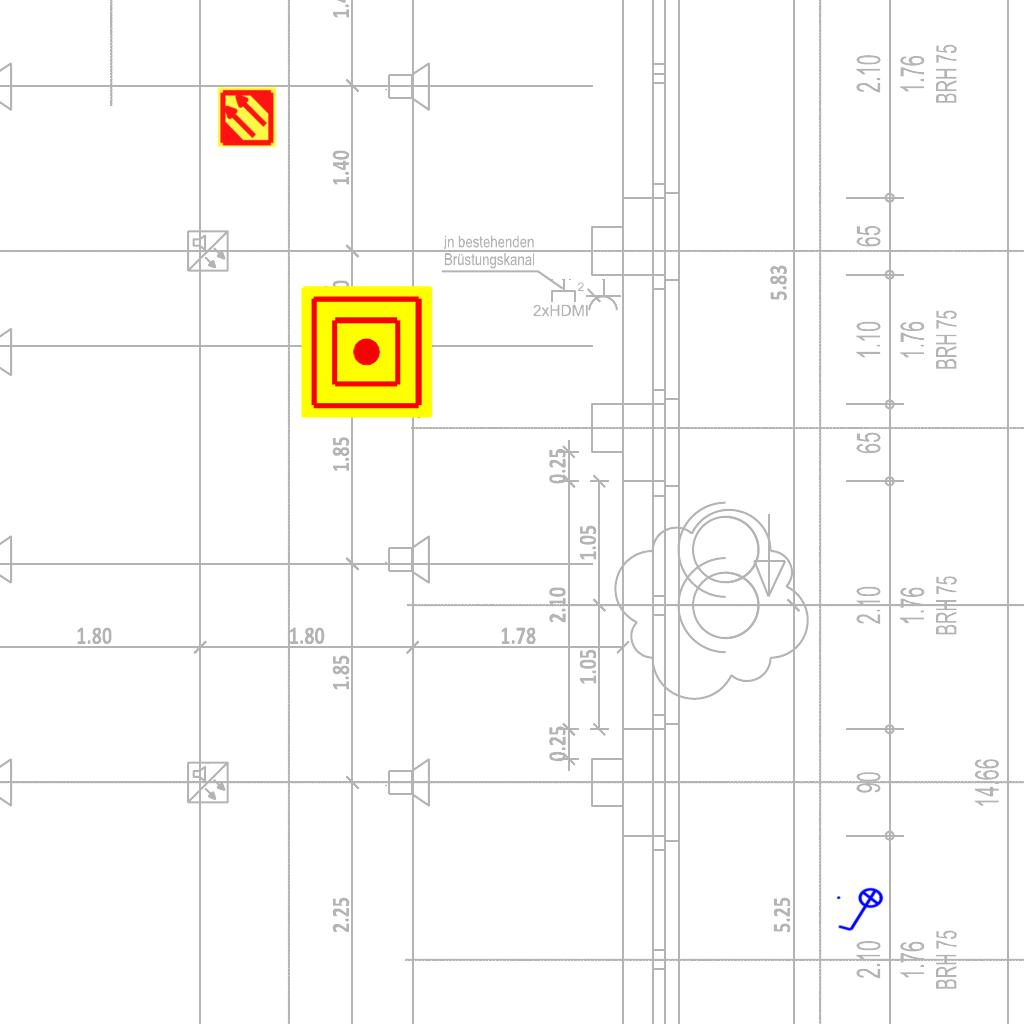ASR_Ansaugrauchmelder: (216, 86, 278, 148)
Ausschalter_beleuchtet: (834, 887, 890, 935)
NAM-Nichtautomatischer_Melder: (301, 286, 433, 418)
